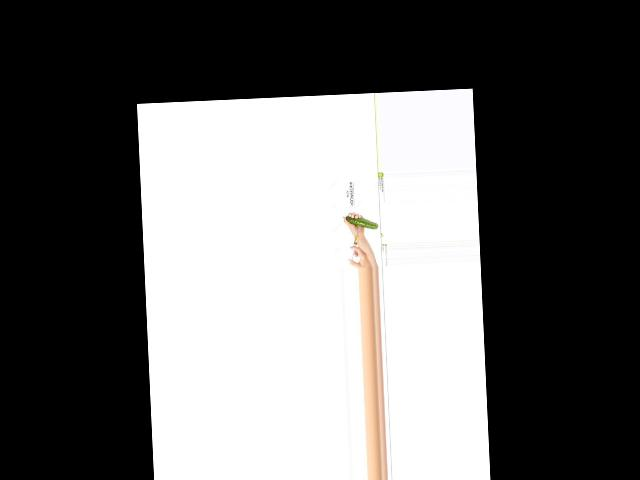cucumber: (345, 214, 378, 230)
